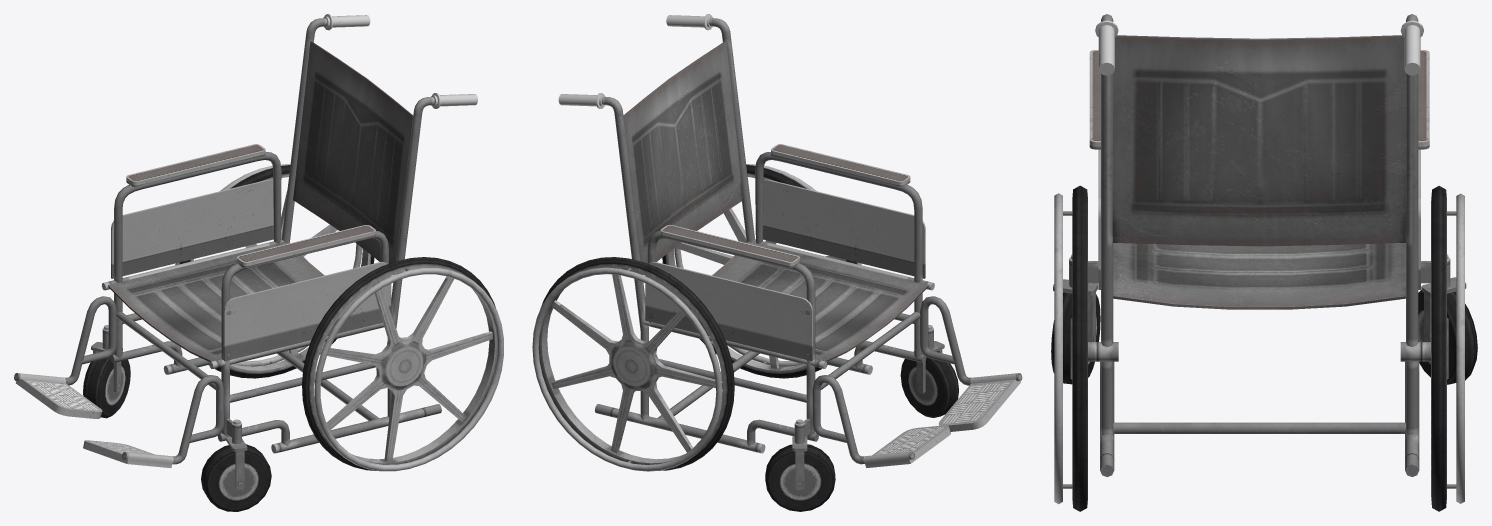
The model's file is HH_Wheelchair.fbx.
The picture shows the model from 3 angles, left to right: view 1: azimuth 30°, elevation 25°; view 2: azimuth 150°, elevation 25°; view 3: azimuth 270°, elevation 25°; orthographic projection. The views are drawn at different scales.
Parts seen in each view (by area): view 1: HH_Wheelchair_LOD0; view 2: HH_Wheelchair_LOD0; view 3: HH_Wheelchair_LOD0.
Part boxes in pixels (x1,y1,x2,y2): HH_Wheelchair_LOD0: [14, 14, 503, 511]; HH_Wheelchair_LOD0: [532, 14, 1022, 511]; HH_Wheelchair_LOD0: [1051, 14, 1477, 511].
Size of what is drawn, in the model's own units: 115 by 106 by 80.84.
